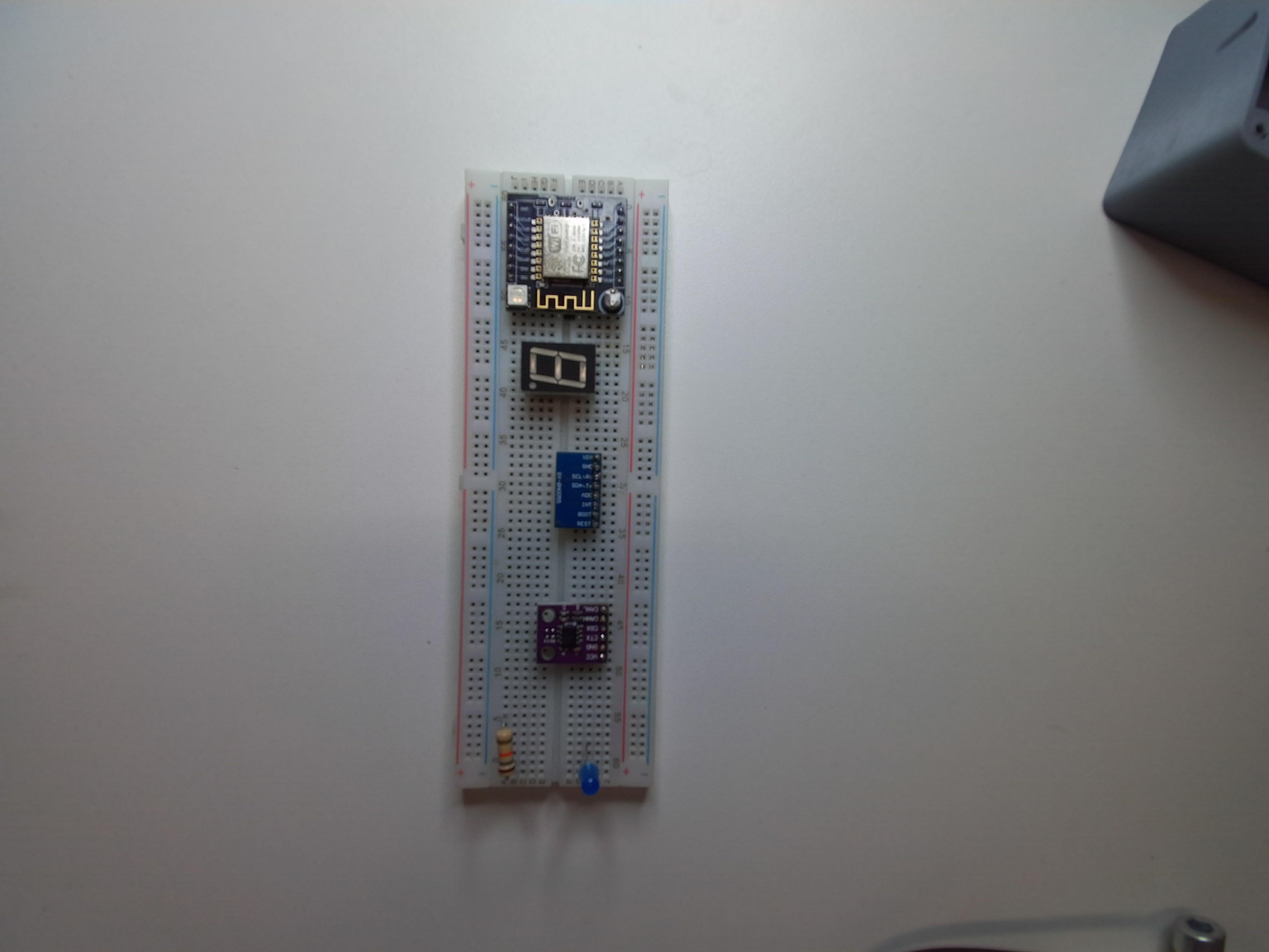base: (450, 170, 677, 807)
blue-board: (550, 448, 603, 533)
blue-led: (575, 755, 603, 796)
digit-board: (520, 337, 600, 398)
esp: (500, 186, 631, 321)
purple-board: (536, 603, 613, 670)
resistor-big: (493, 727, 519, 786)
